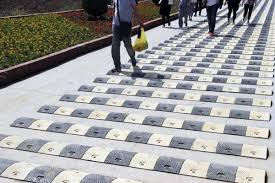Bump: (0, 133, 267, 182), (10, 117, 268, 159), (37, 103, 270, 139), (60, 93, 271, 121), (78, 84, 272, 107), (0, 157, 149, 182), (92, 77, 273, 95), (107, 69, 274, 85), (120, 62, 274, 78), (129, 58, 274, 72), (137, 53, 274, 66), (145, 49, 274, 60), (152, 45, 274, 55), (166, 37, 274, 46), (158, 42, 274, 50), (175, 33, 274, 42), (188, 25, 274, 34), (182, 31, 274, 39), (199, 21, 274, 28), (206, 15, 274, 22), (225, 3, 274, 10), (214, 10, 274, 15), (239, 0, 274, 5)
